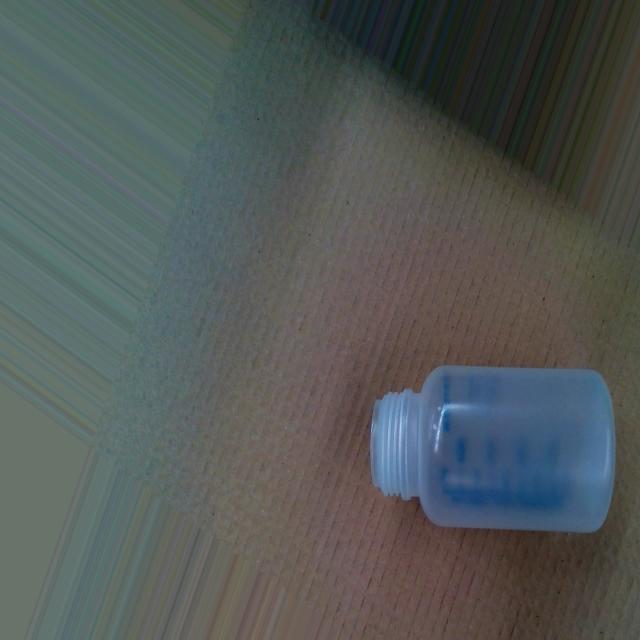bottle: (368, 360, 618, 539)
